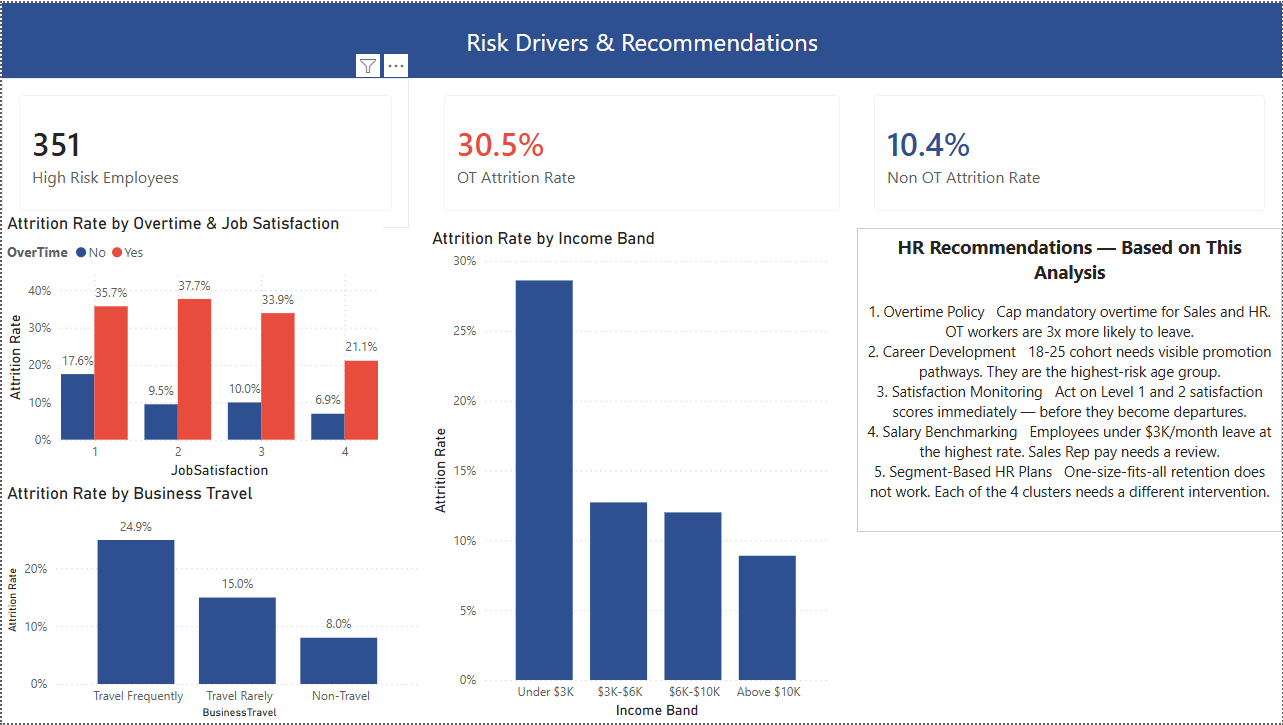

Layout of this report page (visuals, bound fields, positions):
{"tool":"powerbi","page":{"name":"Risk Drivers","canvas":[1280,720],"ordinal":2},"visuals":[{"type":"textbox","box":[0,0,1280,75],"z":0},{"type":"cardVisual","fields":{"Data":["HR_Attrition_Cleaned.High Risk Employees"]},"box":[0,75,407,150],"z":1},{"type":"cardVisual","fields":{"Data":["HR_Attrition_Cleaned.OT Attrition Rate"]},"box":[425,75,430,150],"z":2},{"type":"cardVisual","fields":{"Data":["HR_Attrition_Cleaned.Non OT Attrition Rate"]},"box":[855,75,425,150],"z":3},{"type":"clusteredColumnChart","title":"Attrition Rate by Overtime & Job Satisfaction","fields":{"Category":["HR_Attrition_Cleaned.JobSatisfaction"],"Y":["HR_Attrition_Cleaned.Attrition Rate"],"Series":["HR_Attrition_Cleaned.OverTime"]},"box":[0,210,381,270],"z":4},{"type":"clusteredColumnChart","title":"Attrition Rate by Business Travel","fields":{"Category":["HR_Attrition_Cleaned.BusinessTravel"],"Y":["HR_Attrition_Cleaned.Attrition Rate"]},"box":[0,480,425,240],"z":5},{"type":"clusteredColumnChart","title":"Attrition Rate by Income Band","fields":{"Category":["HR_Attrition_Cleaned.Income Band"],"Y":["HR_Attrition_Cleaned.Attrition Rate"]},"box":[425,225,406,495],"z":6},{"type":"textbox","box":[855,225,425,304],"z":7}]}

Visuals, with their boxes in screenshot pixels (x1, y1, x2, y2), scaled from the page's 1280x720 canvas onto the 1283x725 screenshot:
textbox: 0:0:1282:76
cardVisual - HR_Attrition_Cleaned.High Risk Employees: 0:76:408:227
cardVisual - HR_Attrition_Cleaned.OT Attrition Rate: 426:76:857:227
cardVisual - HR_Attrition_Cleaned.Non OT Attrition Rate: 857:76:1282:227
"Attrition Rate by Overtime & Job Satisfaction" clusteredColumnChart: 0:211:382:483
"Attrition Rate by Business Travel" clusteredColumnChart: 0:483:426:724
"Attrition Rate by Income Band" clusteredColumnChart: 426:227:833:724
textbox: 857:227:1282:533
